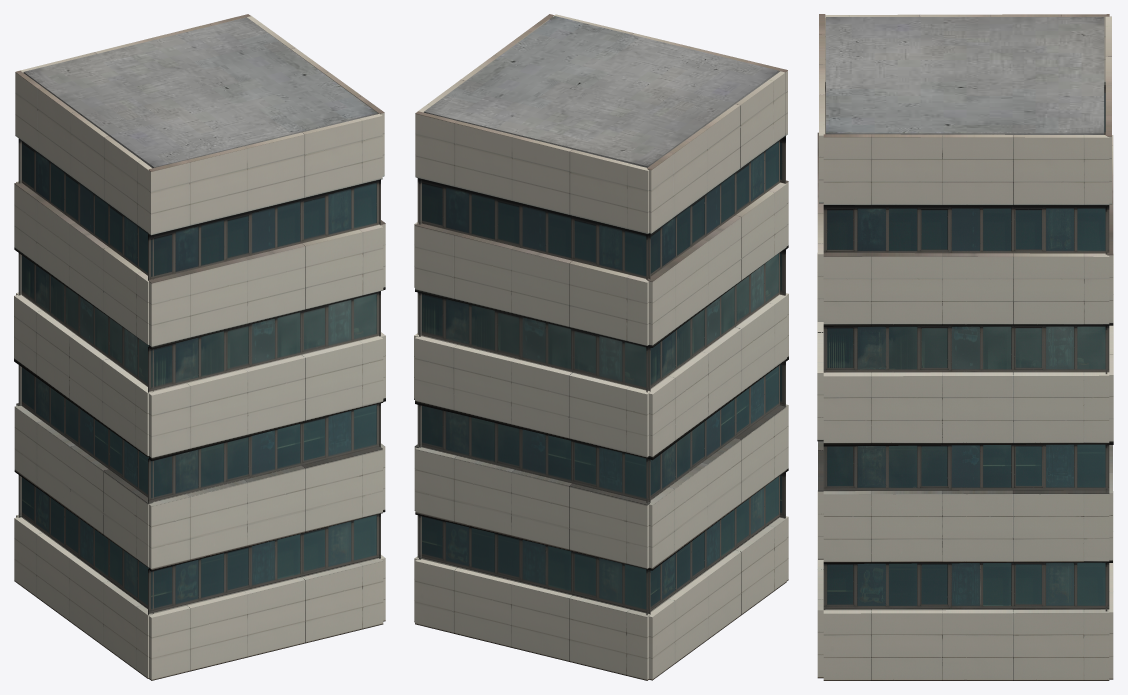
The model's file is Mordern Building4(04-15).FBX.
The picture shows the model from 3 angles, left to right: view 1: azimuth 30°, elevation 25°; view 2: azimuth 150°, elevation 25°; view 3: azimuth 270°, elevation 25°; orthographic projection. The views are drawn at different scales.
Parts seen in each view (by area): view 1: Plane001; view 2: Plane001; view 3: Plane001.
Part boxes in pixels (x1,y1,x2,y2): Plane001: (14,14,385,680); Plane001: (414,14,788,680); Plane001: (817,14,1113,680).
Size of the model in its own units: 103 by 210 by 104.
